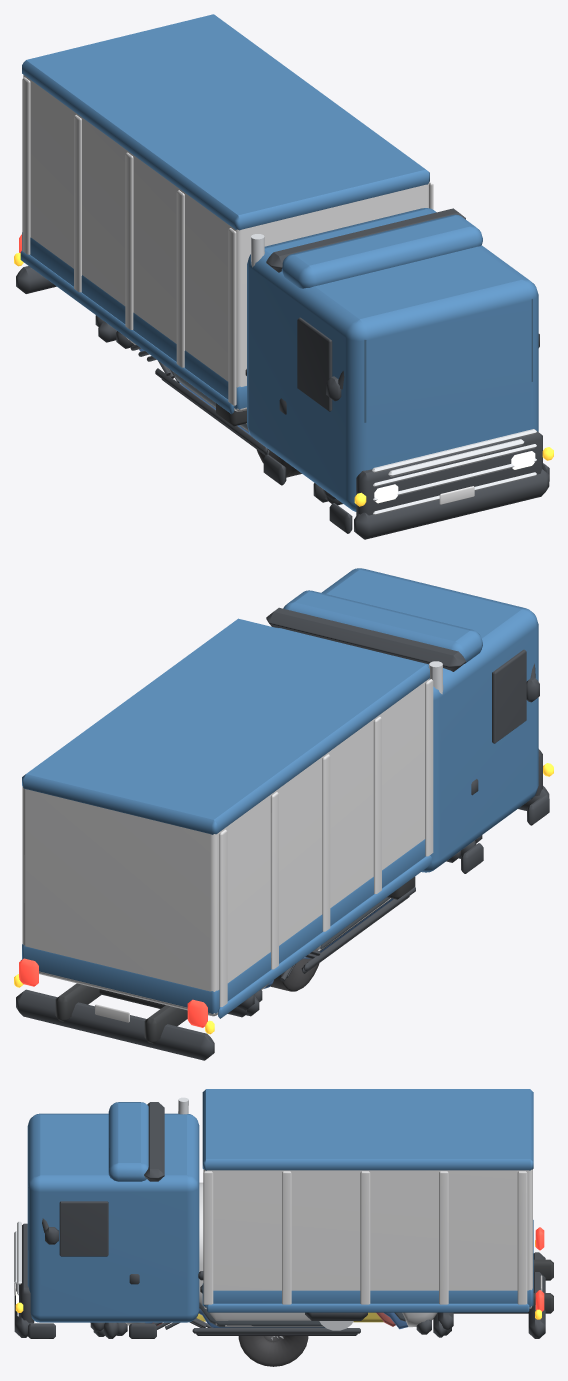
Rendered from vehicles_pack.glb.
The picture shows the model from 3 angles, top to bottom: view 1: azimuth 30°, elevation 25°; view 2: azimuth 150°, elevation 25°; view 3: azimuth 270°, elevation 25°; orthographic projection. The views are drawn at different scales.
Visible parts, largest first — view 1: Truck_paint, Truck_accent, Truck_trim, Truck_chrome, SUV_trim, Truck_head; view 2: Truck_paint, Truck_accent, Truck_trim, Truck_dark, SUV_trim, Truck_tail, Wheel_TruckR_Tire; view 3: Truck_paint, Truck_accent, Truck_trim, Van_paint, Wheel_TruckR_Tire, SUV_trim, SUV_paint, Truck_chrome, Truck_dark, Sedan_trim, Van_trim, Hatch_trim (+2 smaller).
Boxes of the visible parts, x1,y1,x2,y2 form: Truck_paint: (20, 14, 538, 511); Truck_accent: (22, 75, 474, 504); Truck_trim: (16, 208, 549, 539); Truck_chrome: (251, 234, 536, 514); SUV_trim: (95, 315, 335, 500); Truck_head: (374, 451, 535, 503); Truck_paint: (20, 568, 538, 1018); Truck_accent: (22, 679, 433, 1022); Truck_trim: (16, 607, 549, 1060); Truck_dark: (55, 876, 415, 1043); SUV_trim: (237, 835, 482, 1010); Truck_tail: (19, 958, 207, 1027); Wheel_TruckR_Tire: (277, 958, 319, 991); Truck_paint: (27, 1089, 533, 1322); Truck_accent: (14, 1169, 542, 1308); Truck_trim: (14, 1102, 545, 1338); Van_paint: (125, 1182, 437, 1327); Wheel_TruckR_Tire: (238, 1336, 308, 1366); SUV_trim: (90, 1271, 453, 1333); SUV_paint: (199, 1303, 405, 1327); Truck_chrome: (14, 1097, 353, 1330); Truck_dark: (198, 1259, 553, 1313); Sedan_trim: (93, 1285, 451, 1336); Van_trim: (103, 1274, 447, 1338); Hatch_trim: (117, 1318, 431, 1335).
Size of the model in its own units: 2.64 by 3.74 by 7.7.
